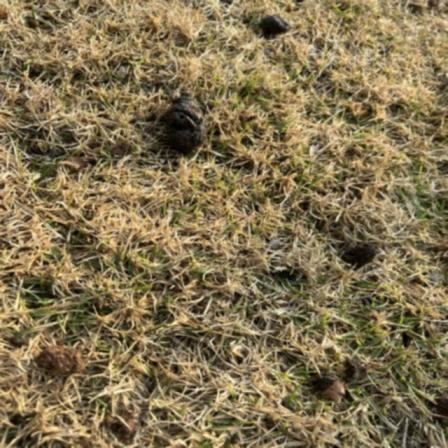dog-poop: (161, 94, 204, 153), (260, 8, 289, 38)
